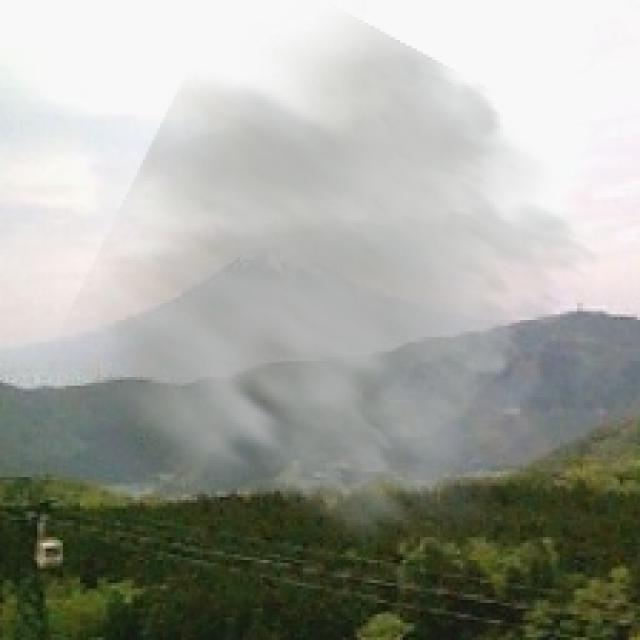smoke: (34, 3, 603, 566)
